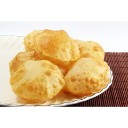poori: (12, 60, 65, 99), (65, 58, 110, 94), (35, 29, 80, 64), (72, 36, 106, 61)
